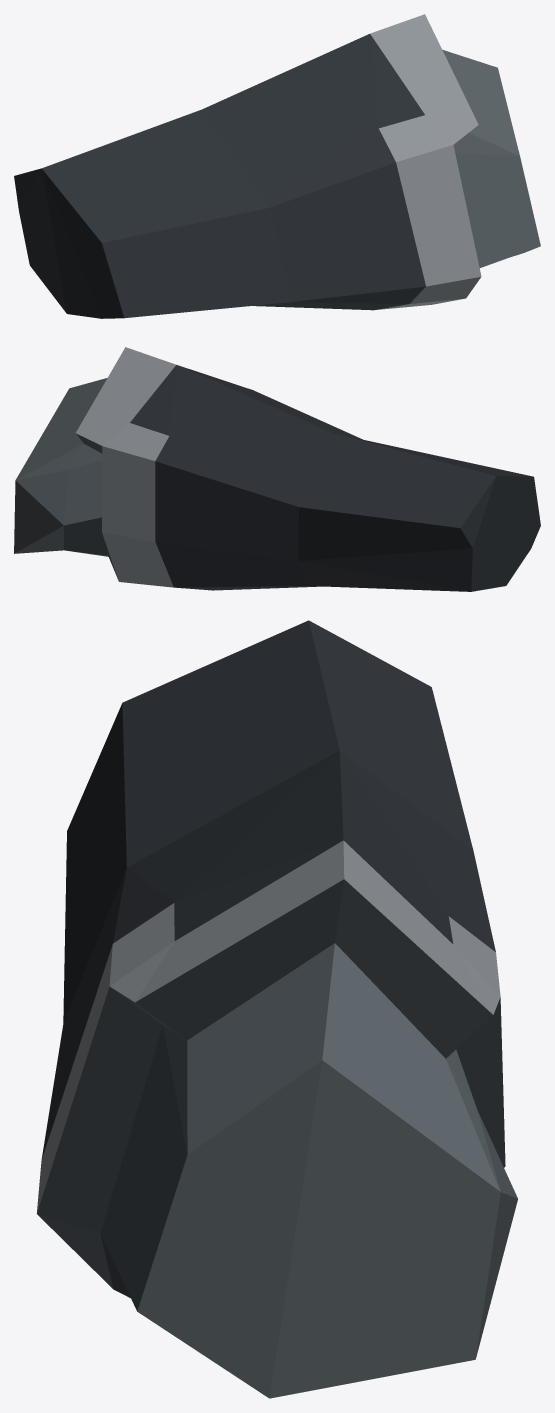
File: Chr_ArmLowerRight_Male_05_Static.fbx
3 views of the same model, one above another, from view 1: azimuth 30°, elevation 25°; view 2: azimuth 150°, elevation 25°; view 3: azimuth 270°, elevation 25° (orthographic). The views are drawn at different scales.
Visible parts, largest first — view 1: Chr_ArmLowerRight_Male_05_Static; view 2: Chr_ArmLowerRight_Male_05_Static; view 3: Chr_ArmLowerRight_Male_05_Static.
Part boxes in pixels (x1,y1,x2,y2): Chr_ArmLowerRight_Male_05_Static: [14, 14, 540, 318]; Chr_ArmLowerRight_Male_05_Static: [14, 347, 540, 591]; Chr_ArmLowerRight_Male_05_Static: [36, 620, 517, 1398].
Bounding box in the file's own units: 0.2849 × 0.1544 × 0.1348.
